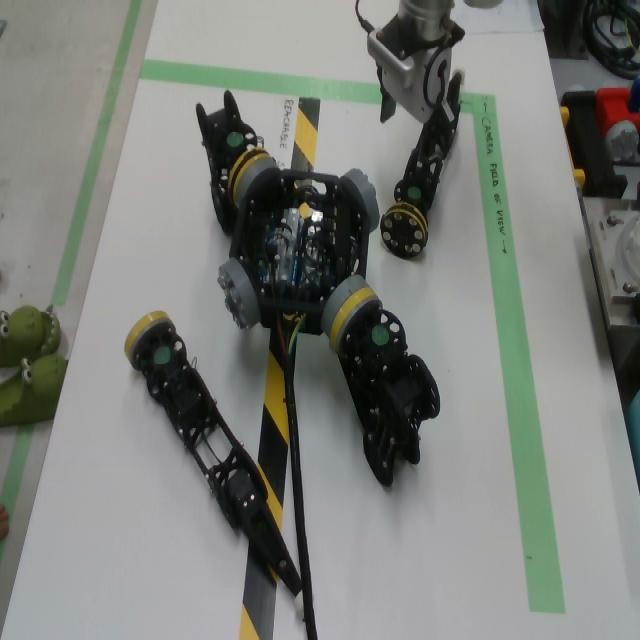body: (230, 171, 370, 336)
body_connector: (320, 275, 370, 337), (218, 259, 259, 329), (340, 168, 380, 233), (236, 157, 280, 208)
gripper: (377, 47, 454, 161)
leg: (124, 311, 303, 619), (329, 287, 440, 488), (379, 64, 467, 257), (196, 91, 269, 237)
leg_connector: (330, 288, 381, 352), (380, 201, 428, 259), (124, 311, 175, 360), (228, 148, 271, 204)
leg_marker: (372, 325, 389, 344), (155, 345, 170, 364), (227, 132, 243, 147), (408, 187, 420, 199)
